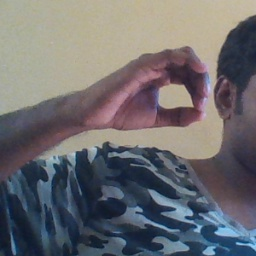O: (78, 43, 213, 138)
